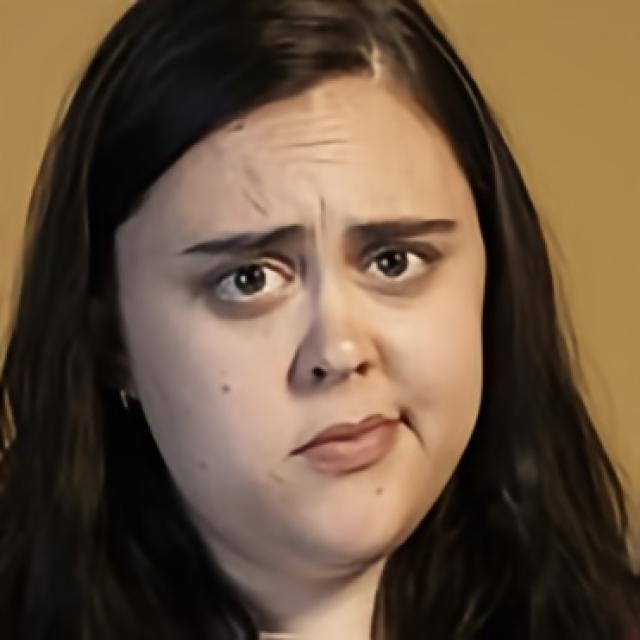disgust: (111, 67, 491, 582)
